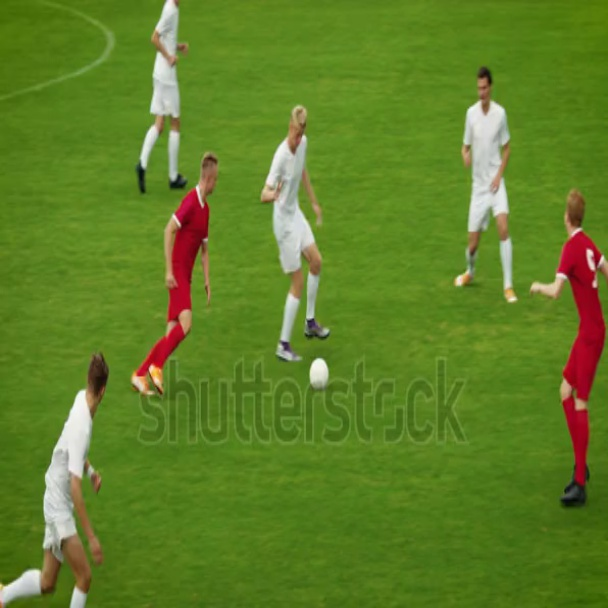ball: (304, 353, 334, 399)
